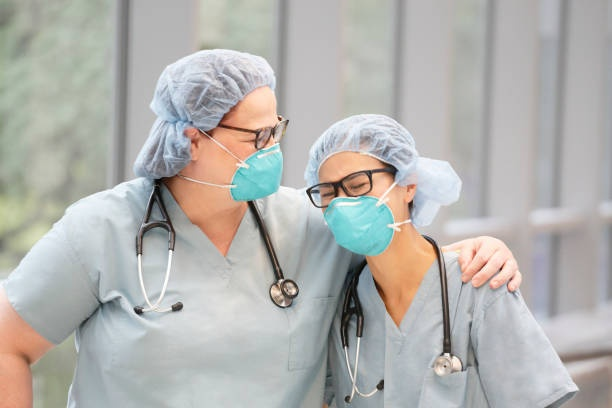mask: (155, 48, 291, 206), (309, 112, 421, 258)
person: (5, 45, 328, 408), (307, 109, 538, 408)
